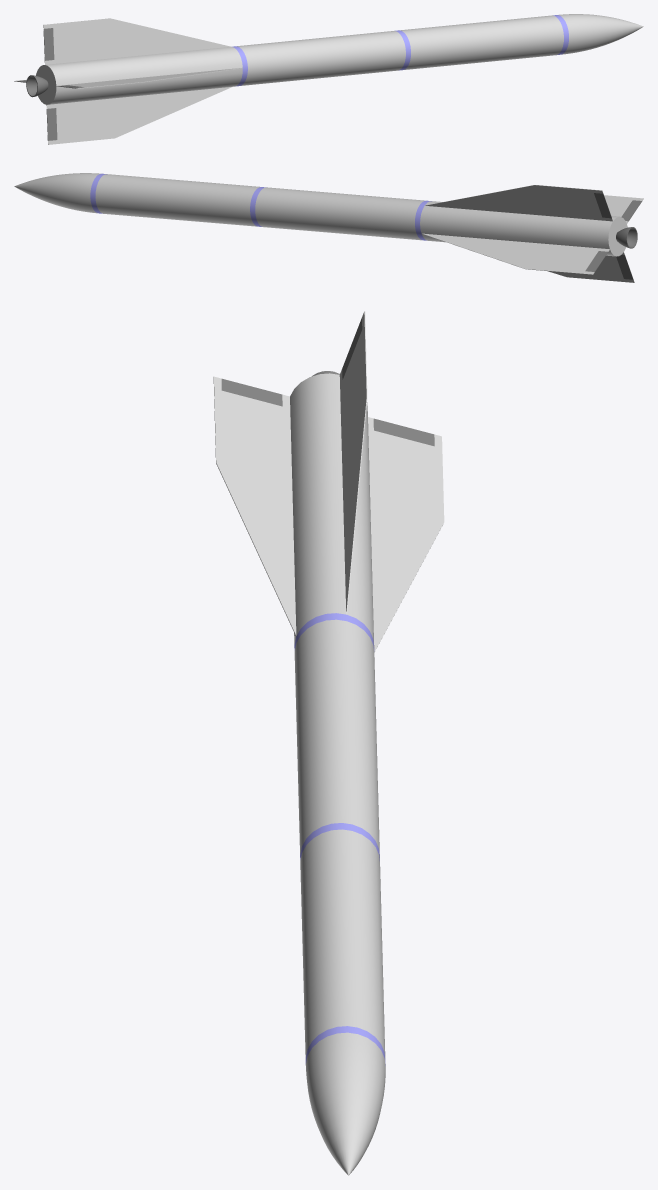
3 renders of one model, top to bottom at view 1: azimuth 30°, elevation 25°; view 2: azimuth 150°, elevation 25°; view 3: azimuth 270°, elevation 25°, orthographic. The views are drawn at different scales.
Visible parts, largest first — view 1: Material2.001, Material2.002, Material2; view 2: Material2.001, Material2.002, Material2; view 3: Material2.001, Material2.002, Material2.
Part boxes in pixels (<box>): Material2.001: <box>14,14,643,144</box>; Material2.002: <box>16,28,83,140</box>; Material2: <box>232,15,568,86</box>; Material2.001: <box>14,173,643,282</box>; Material2.002: <box>585,193,642,279</box>; Material2: <box>90,173,431,240</box>; Material2.001: <box>213,311,444,1175</box>; Material2.002: <box>221,318,434,446</box>; Material2: <box>294,613,385,1065</box>.
Size of the model in its own units: 140 by 32.73 by 22.72.
